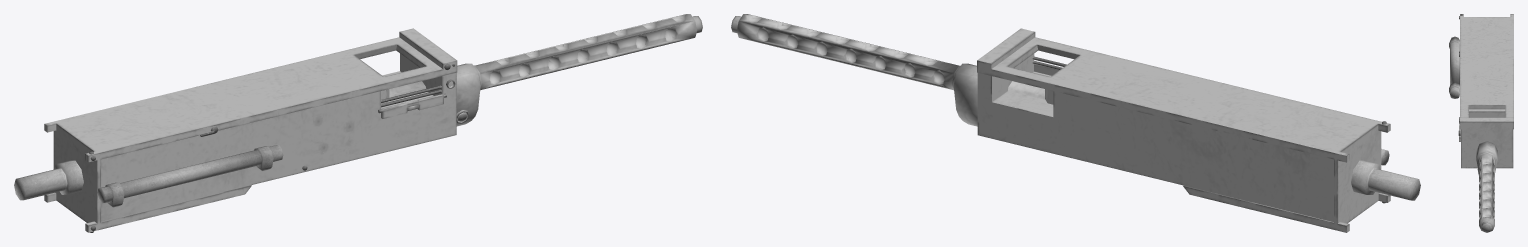
Rendered from SpitGun.fbx.
3 renders of one model, left to right at view 1: azimuth 30°, elevation 25°; view 2: azimuth 150°, elevation 25°; view 3: azimuth 270°, elevation 25°, orthographic. The views are drawn at different scales.
Parts seen in each view (by area): view 1: SpitGun; view 2: SpitGun; view 3: SpitGun.
Part boxes in pixels (bbox=[...]): SpitGun: bbox=[14, 14, 702, 232]; SpitGun: bbox=[731, 14, 1420, 232]; SpitGun: bbox=[1449, 14, 1513, 232].
Bounding box in the file's own units: 185 × 22.47 × 24.94.
Materials: 1 (1 with a texture image).
